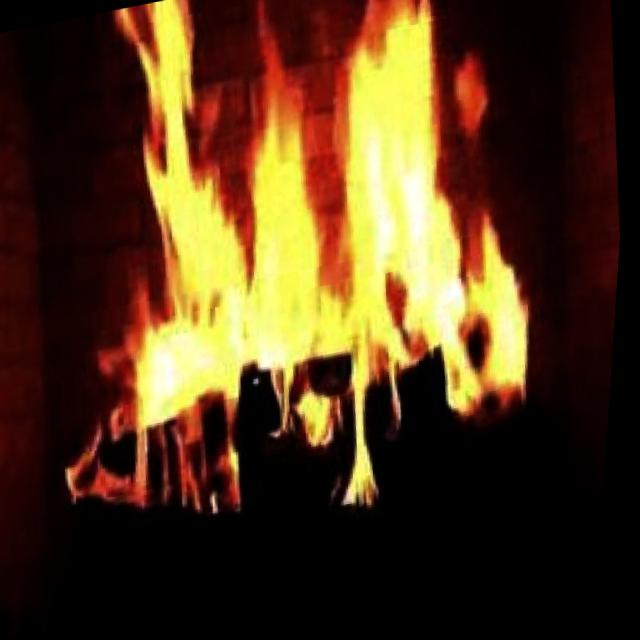Fire: (13, 0, 584, 575)
